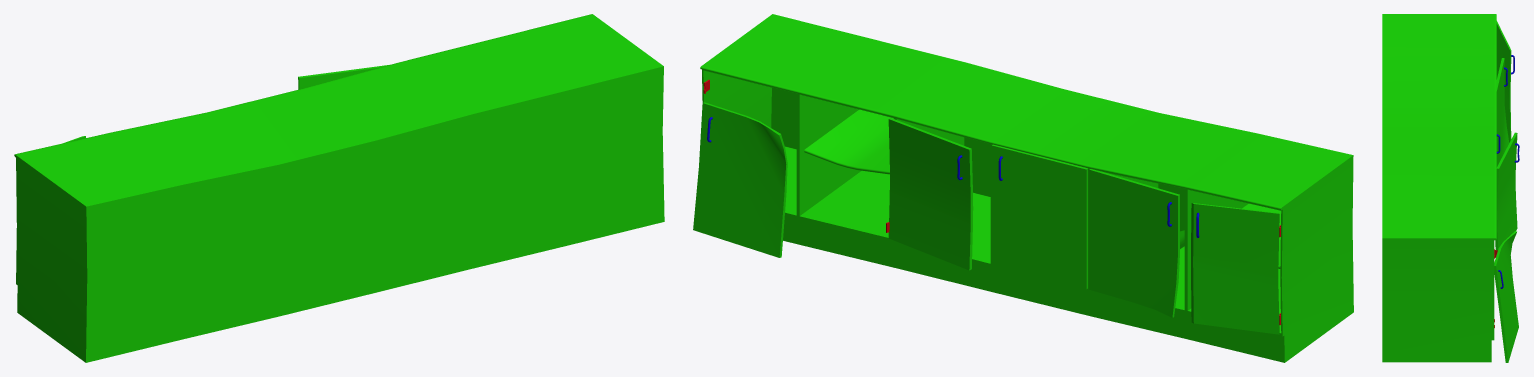
Rendered from Cupboard1.fbx.
3 views of the same model, side by side, from view 1: azimuth 30°, elevation 25°; view 2: azimuth 150°, elevation 25°; view 3: azimuth 270°, elevation 25° (orthographic). The views are drawn at different scales.
Visible parts, largest first — view 1: Shelves_LP, Shelves_LP.002; view 2: Shelves_LP, Shelves_LP.003, Shelves_LP.001, Shelves_LP.004, Shelves_LP.005, Shelves_LP.002; view 3: Shelves_LP, Shelves_LP.002, Shelves_LP.001, Shelves_LP.005, Shelves_LP.004.
Boxes of the visible parts, bbox=[...] form: Shelves_LP: bbox=[14, 14, 664, 362]; Shelves_LP.002: bbox=[298, 65, 388, 89]; Shelves_LP: bbox=[700, 14, 1353, 362]; Shelves_LP.003: bbox=[991, 144, 1087, 289]; Shelves_LP.001: bbox=[693, 102, 787, 257]; Shelves_LP.004: bbox=[1089, 169, 1179, 317]; Shelves_LP.005: bbox=[1191, 203, 1279, 334]; Shelves_LP.002: bbox=[888, 118, 973, 270]; Shelves_LP: bbox=[1382, 14, 1497, 362]; Shelves_LP.002: bbox=[1495, 132, 1519, 250]; Shelves_LP.001: bbox=[1494, 231, 1518, 362]; Shelves_LP.005: bbox=[1496, 21, 1514, 142]; Shelves_LP.004: bbox=[1496, 58, 1509, 167].
Size of the model in its own units: 970 by 253 by 251.
